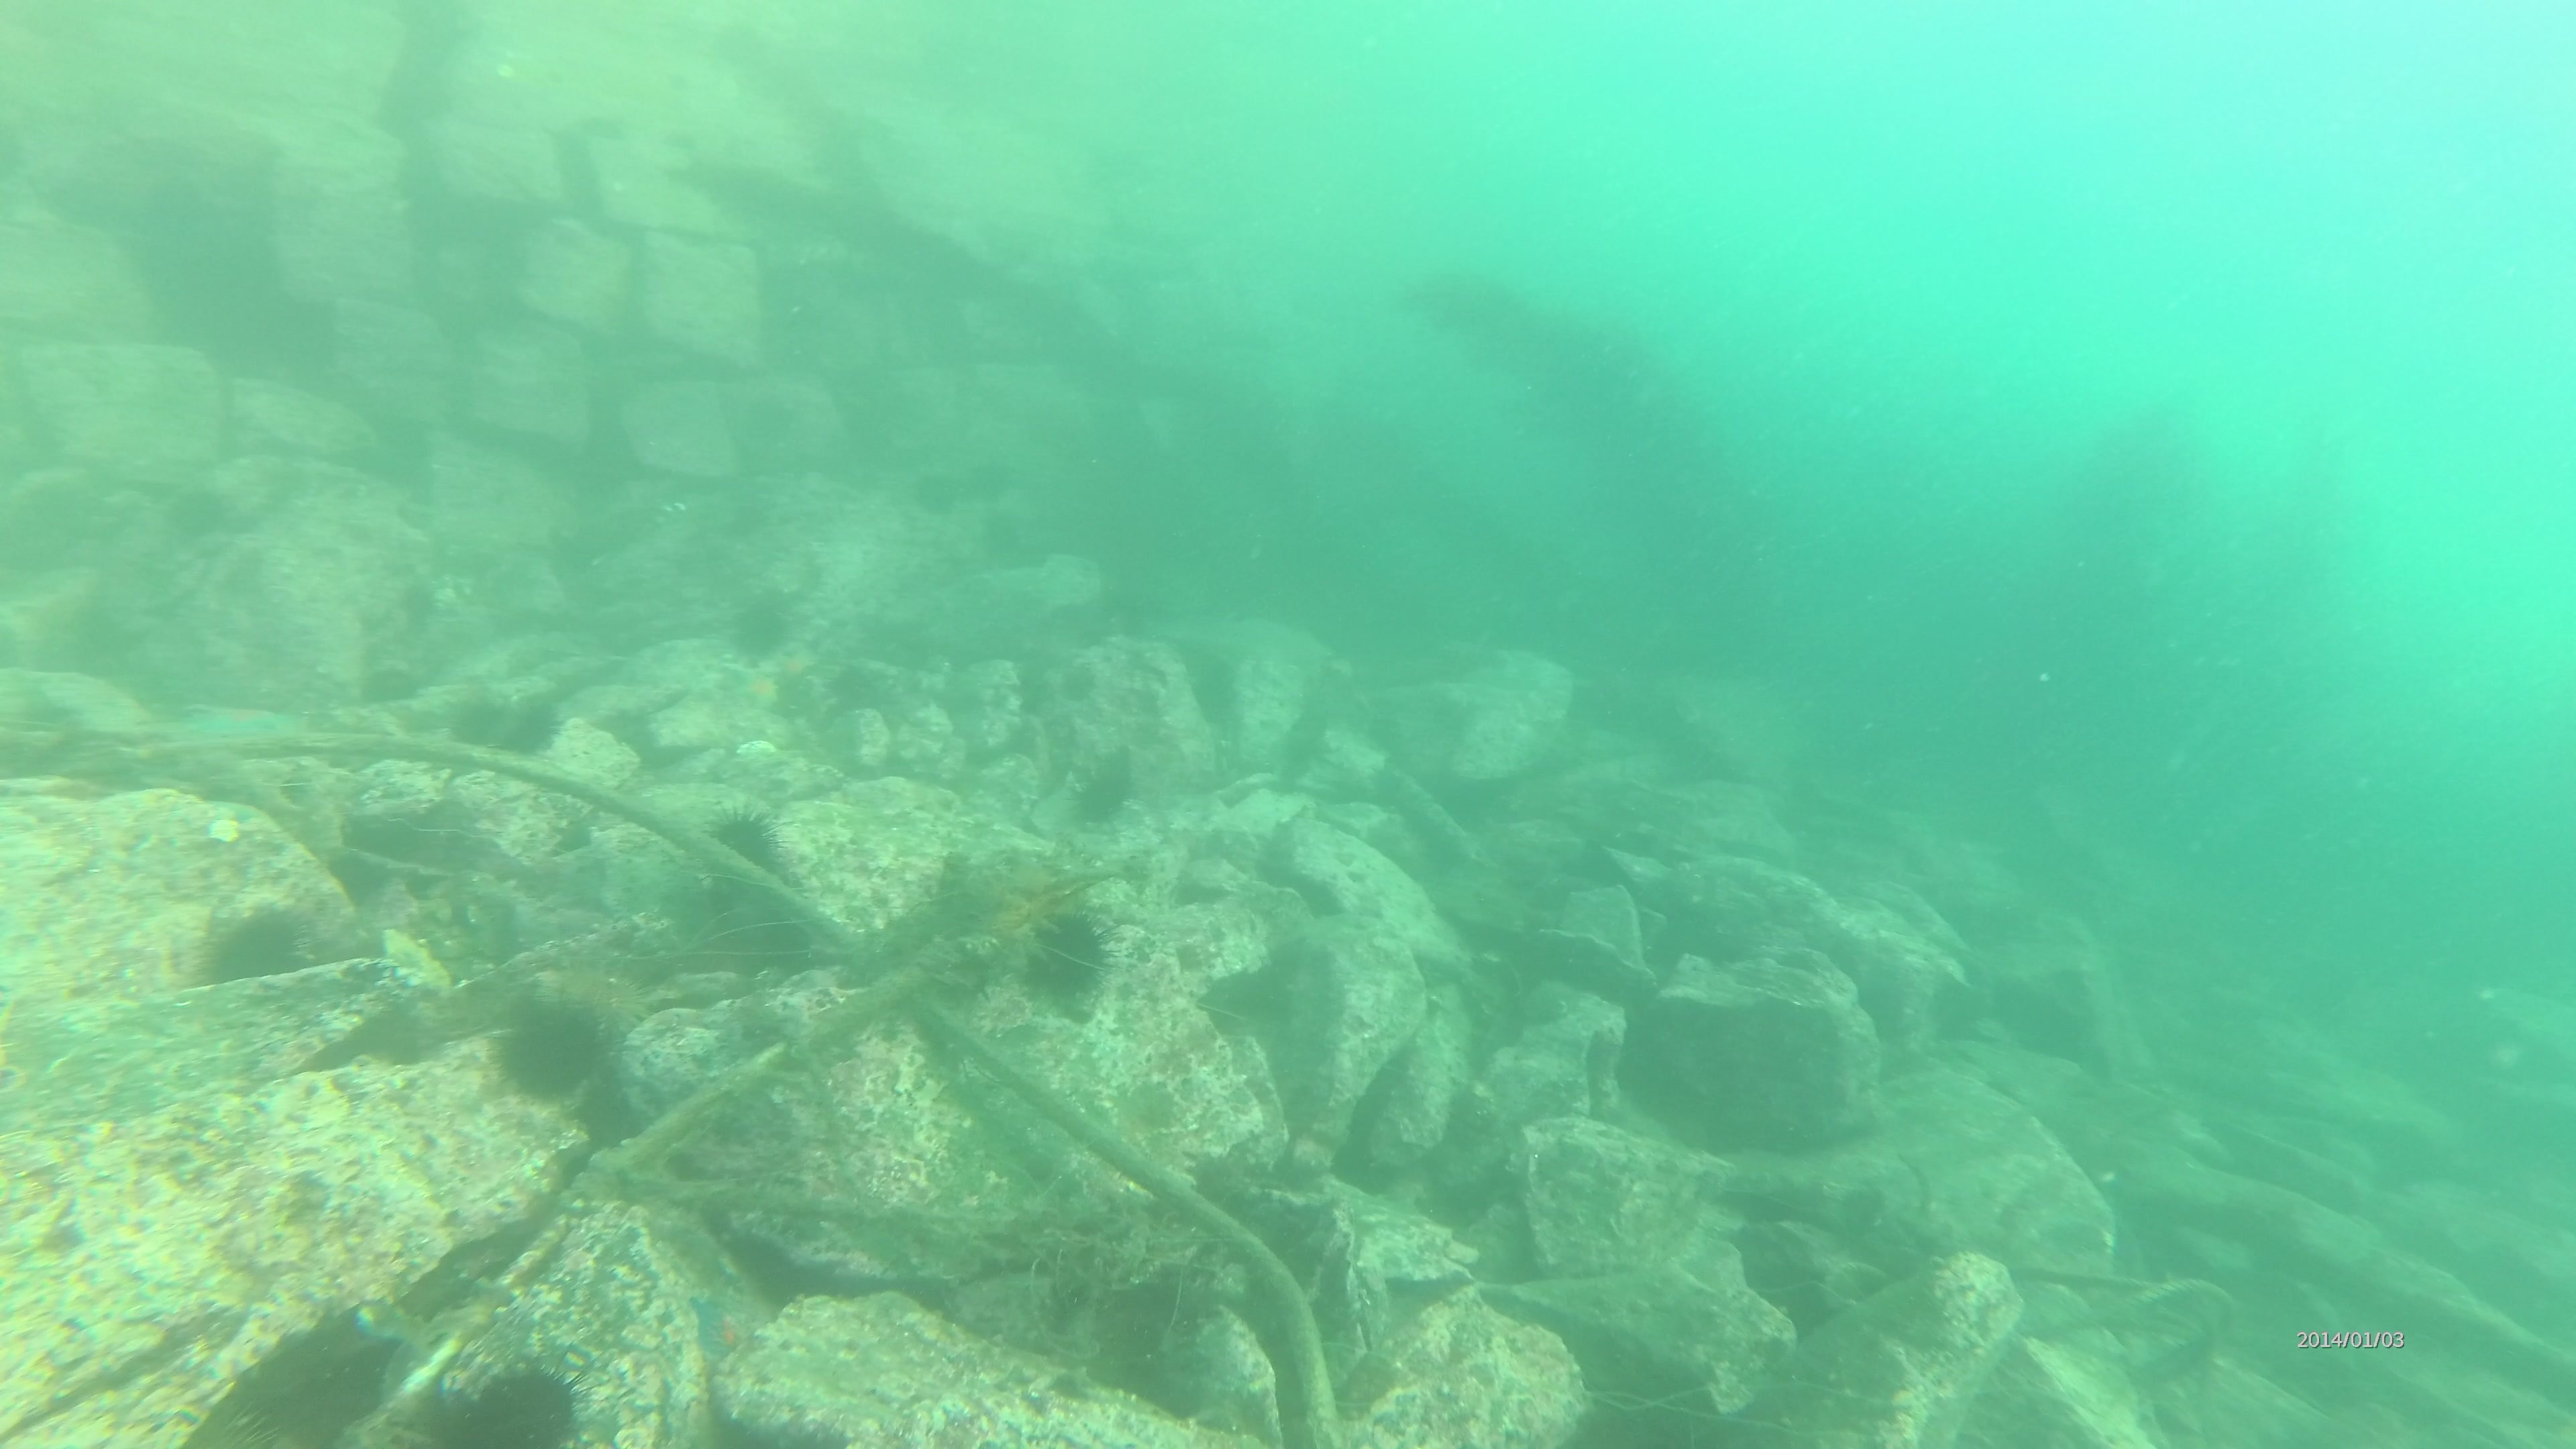echinus: (453, 1355, 602, 1449), (494, 991, 598, 1104), (189, 904, 317, 996), (1005, 901, 1118, 1003), (531, 952, 640, 1039), (697, 801, 782, 906), (892, 453, 977, 536), (234, 283, 318, 366), (356, 642, 439, 725), (1189, 644, 1272, 727), (504, 681, 589, 763), (432, 681, 517, 763), (711, 589, 796, 671), (1065, 755, 1150, 837)
starfish: (683, 1284, 748, 1366)
